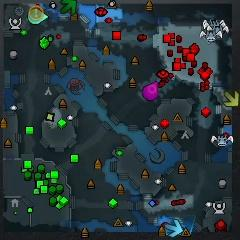Other: (29, 5, 44, 20)
p2: (28, 12, 49, 25)
p3: (142, 82, 159, 100)
x2: (223, 91, 240, 107)
x3: (164, 219, 183, 237)
x4: (60, 0, 78, 15)
